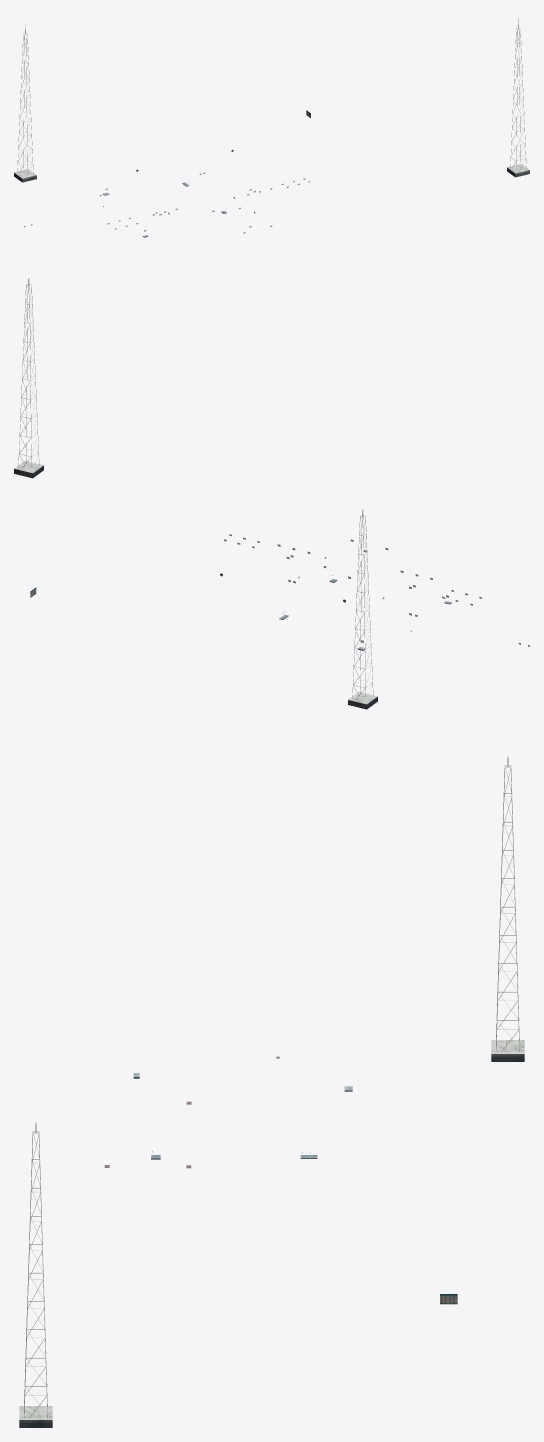
3 views of the same model, one above another, from view 1: azimuth 30°, elevation 25°; view 2: azimuth 150°, elevation 25°; view 3: azimuth 270°, elevation 25° (orthographic). The views are drawn at different scales.
Visible parts, largest first — view 1: 19-材质.17, 19-zuigaota1; view 2: 19-材质.17, 19-zuigaota1; view 3: 19-材质.17, 19-zuigaota1.
Boxes of the visible parts, x1,y1,x2,y2 form: 19-材质.17: (17, 18, 526, 176); 19-zuigaota1: (14, 164, 529, 182); 19-材质.17: (18, 278, 373, 700); 19-zuigaota1: (14, 461, 377, 709); 19-材质.17: (24, 756, 519, 1417); 19-zuigaota1: (19, 1040, 524, 1427).
Size of the model in its own units: 73.76 by 24.94 by 36.1.
Materials: 37 (36 with a texture image).
